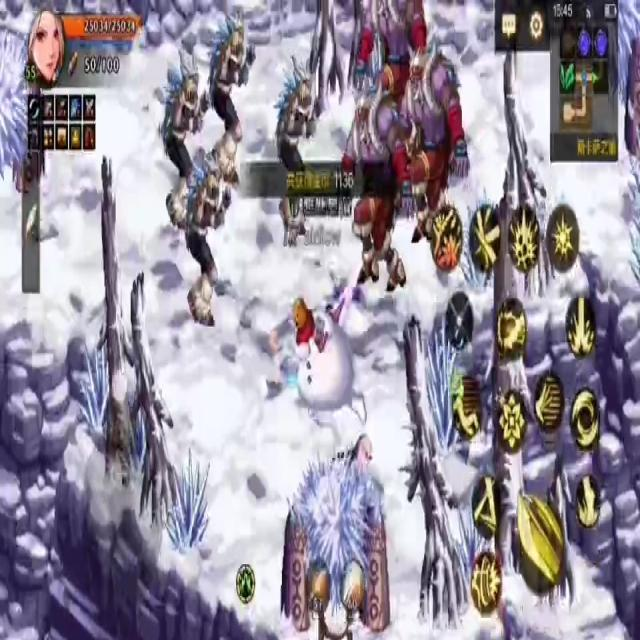player: (289, 286, 369, 427)
